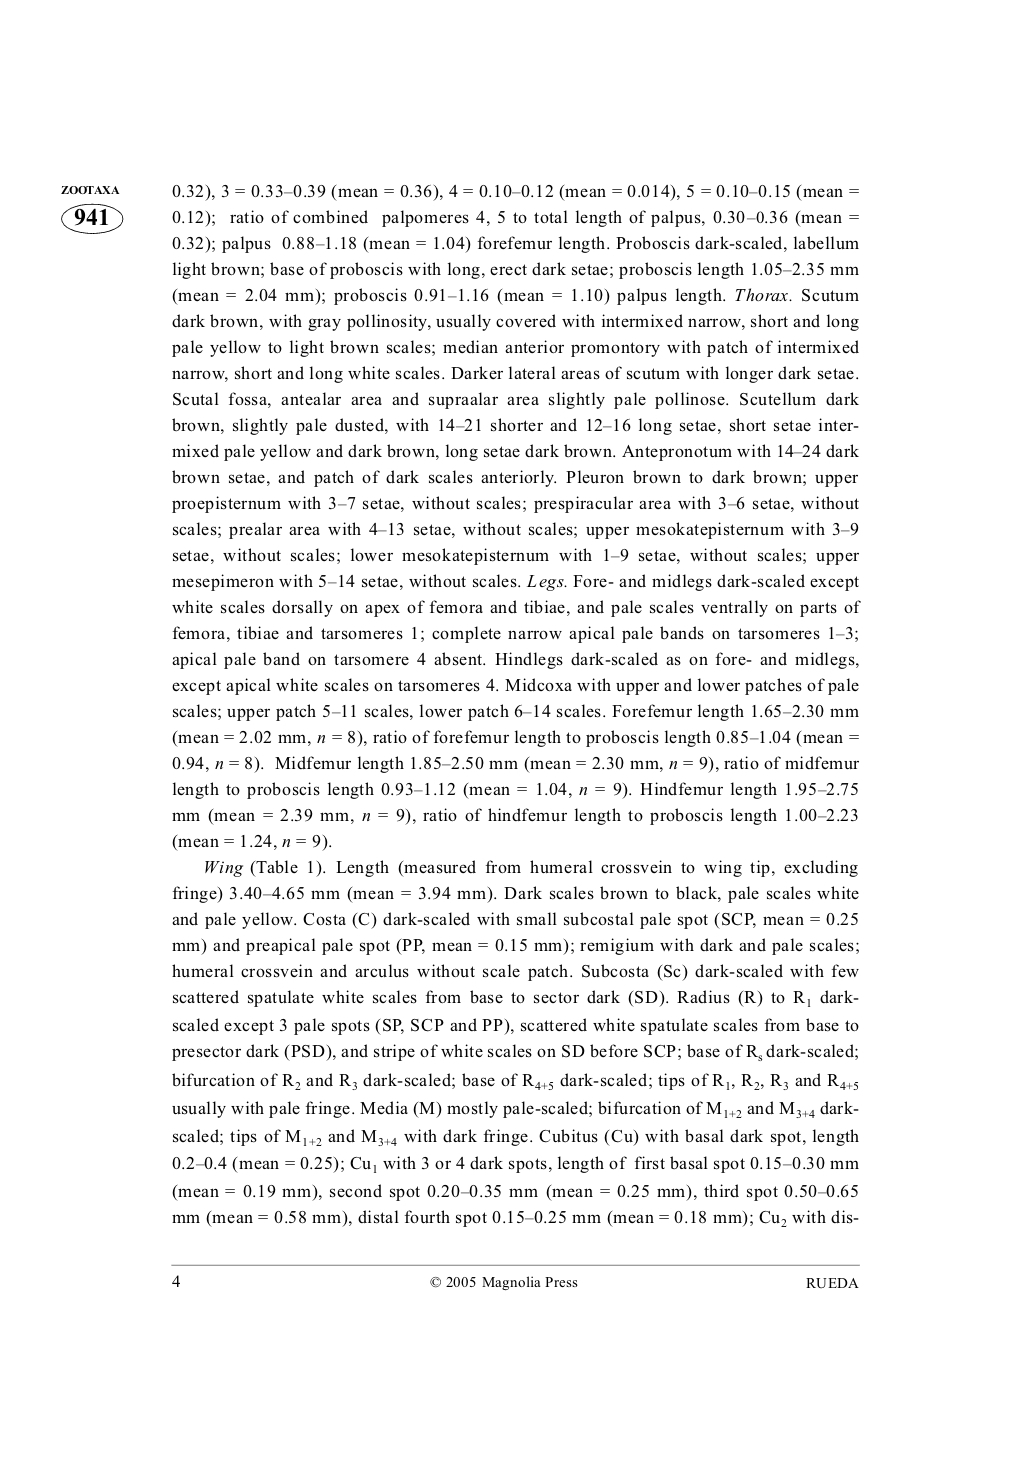figure: (61, 186, 123, 233)
